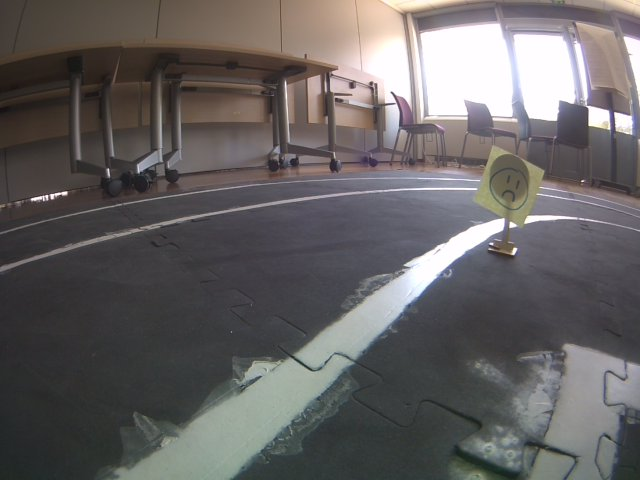Smiley: (473, 145, 545, 228)
